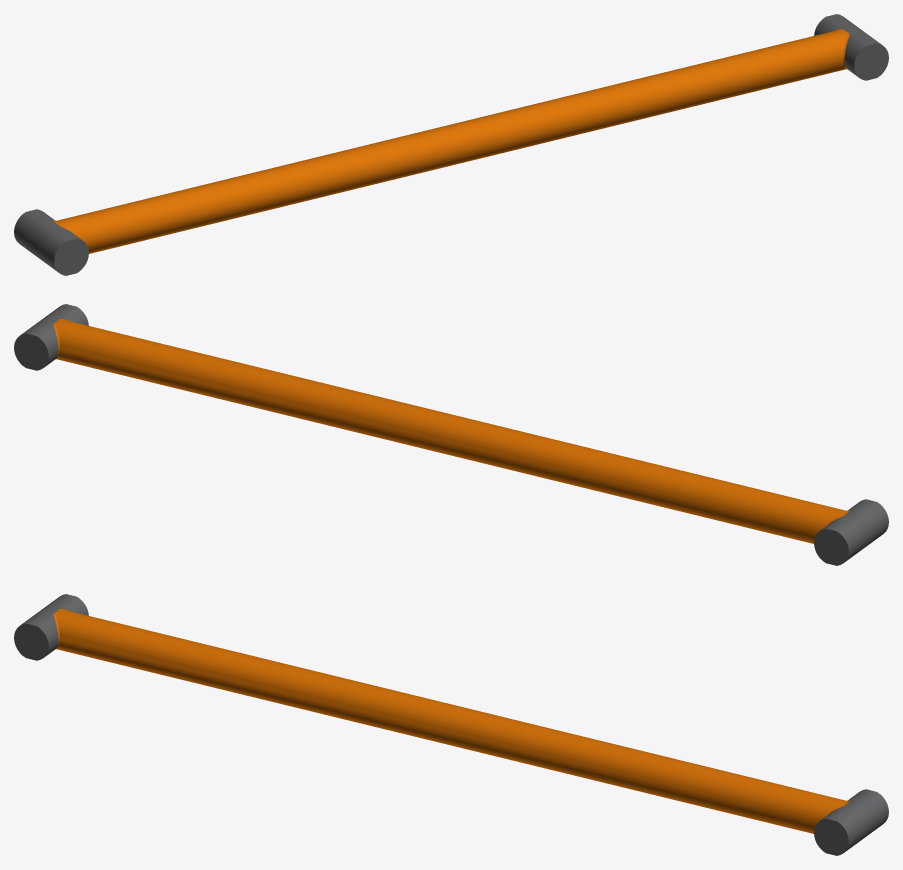
3 renders of one model, top to bottom at view 1: azimuth 30°, elevation 25°; view 2: azimuth 150°, elevation 25°; view 3: azimuth 330°, elevation 25°, orthographic.
Visible parts, largest first — view 1: k4_LOD0, k4_col; view 2: k4_LOD0, k4_col; view 3: k4_LOD0, k4_col.
Part boxes in pixels (left/top/right/bottom): k4_LOD0: left=14, top=14, right=888, bottom=275; k4_col: left=27, top=15, right=888, bottom=273; k4_LOD0: left=14, top=304, right=888, bottom=565; k4_col: left=14, top=304, right=874, bottom=564; k4_LOD0: left=14, top=594, right=888, bottom=855; k4_col: left=14, top=594, right=875, bottom=855.
Size of what is drawn, in the model's own units: 288 by 11.93 by 24.
